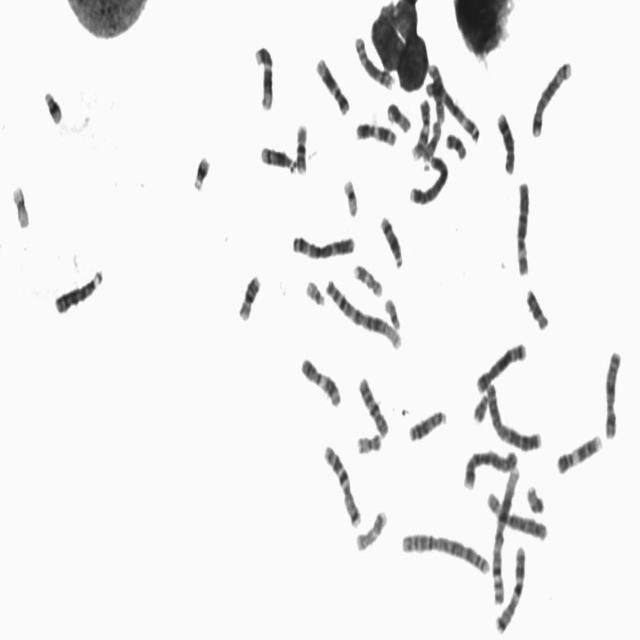A1: (323, 273, 404, 351), (489, 460, 522, 607)
A2: (399, 525, 493, 578), (484, 377, 544, 453)
A3: (423, 74, 481, 144), (290, 228, 357, 262)
B4: (461, 444, 520, 492), (406, 150, 451, 207)
B5: (529, 54, 574, 140), (474, 336, 529, 396)
C10: (356, 370, 391, 440), (424, 58, 446, 126)
C11: (298, 351, 344, 410), (353, 116, 399, 147)
C12: (314, 51, 352, 117), (252, 39, 276, 111)
C6: (484, 484, 550, 543), (513, 175, 533, 278)
C7: (321, 439, 363, 529), (492, 539, 528, 635)
C8: (351, 29, 396, 92), (494, 106, 518, 176)
C9: (554, 428, 604, 476), (409, 94, 432, 162)
D13: (52, 264, 105, 316), (406, 403, 449, 444)
D14: (377, 210, 405, 270), (258, 138, 298, 174)
D15: (384, 96, 412, 134), (420, 116, 443, 162)
E16: (235, 269, 262, 323), (293, 118, 310, 176)
E17: (353, 503, 389, 554), (351, 258, 385, 298)
E18: (523, 284, 551, 332), (443, 126, 469, 162)
F19: (9, 178, 32, 230), (340, 173, 360, 219)
F20: (354, 427, 384, 456), (470, 388, 490, 424)
G21: (190, 147, 213, 193), (41, 84, 65, 126)
G22: (382, 292, 403, 331), (303, 274, 327, 308)
X: (602, 344, 624, 442)
